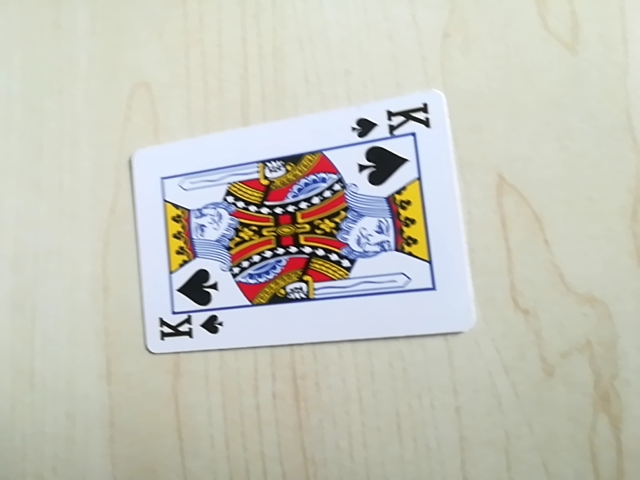ht k: (347, 102, 436, 140), (152, 308, 226, 349)
